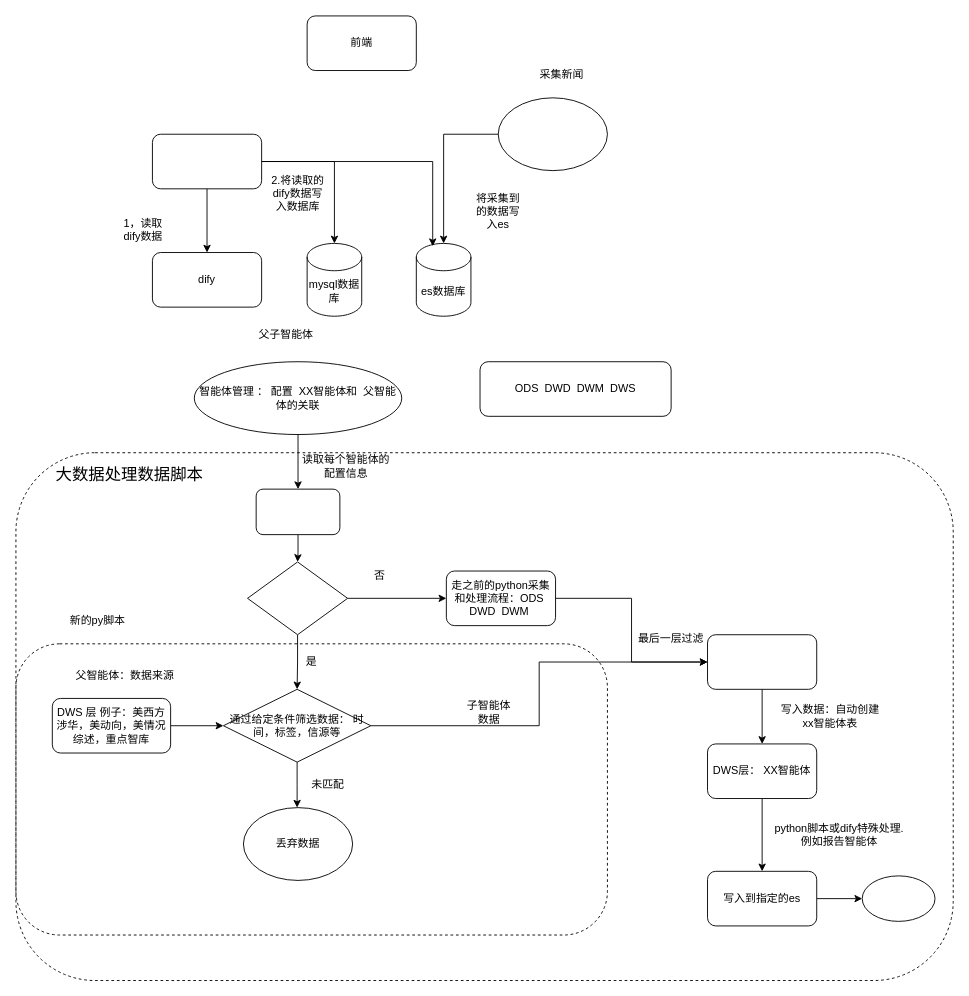
The diagram is 969 pixels wide and 996 high, and some of its shapes have lost their labels. The box of each missing label's shape, as (x1, y1, x2, y2) in pixels:
后端: (152, 133, 262, 189)
大数据: (497, 97, 607, 171)
数据内容提取整理过滤等，例如：python服务 dify服务: (707, 634, 817, 689)
是否继承父亲数据: (247, 561, 348, 635)
查询: (861, 875, 935, 921)
迭代每个智能体处理: (255, 488, 340, 535)
